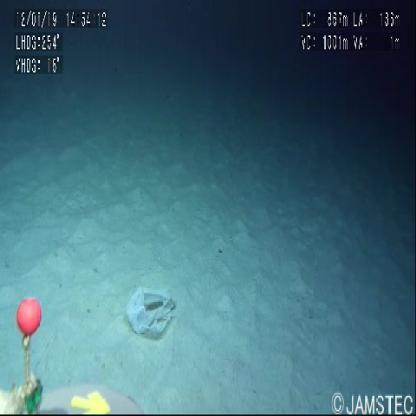Rác: (126, 287, 176, 341)
